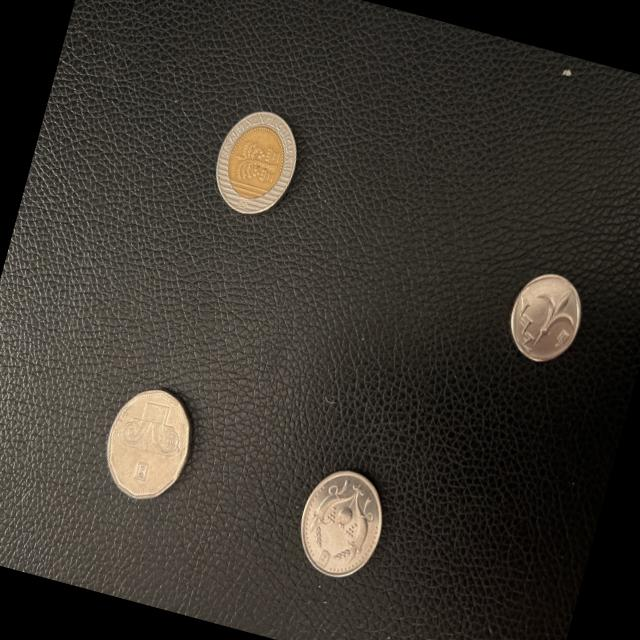1-shekel: (498, 261, 594, 371)
10-shekel: (204, 107, 306, 223)
2-shekel: (290, 464, 392, 586)
5-shekel: (95, 378, 204, 508)
